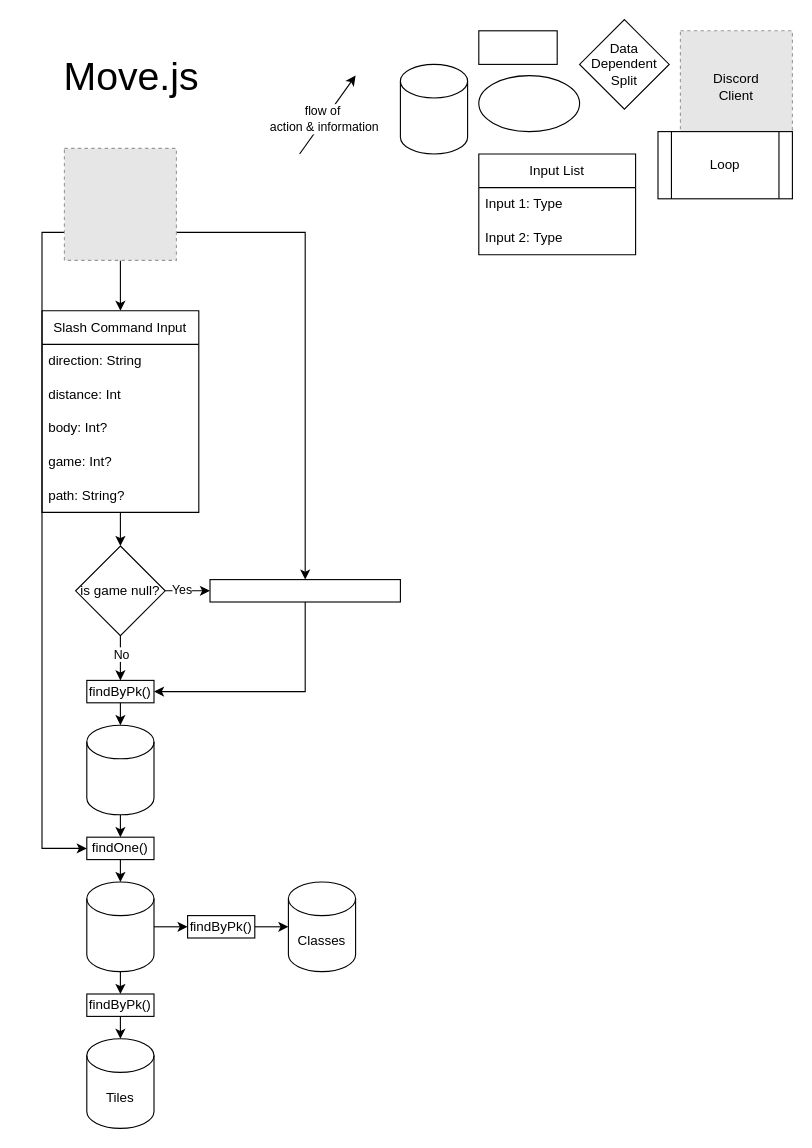
Some shapes in this 812 by 1148 pixel diagram are drawn without their labels. Grey dashed boxes stand in for pictures. The centre of each missing label's shape, as x and y in pixels:
Database Object: the point at 433,108
Function(): the point at 517,47
Game: the point at 120,769
Needed Variable/Data: the point at 529,103
Players: the point at 120,926
utils.getOldestActiveGameId(): the point at 304,590
